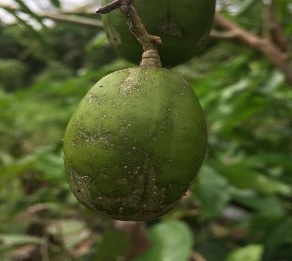Coc: (60, 63, 209, 229)
